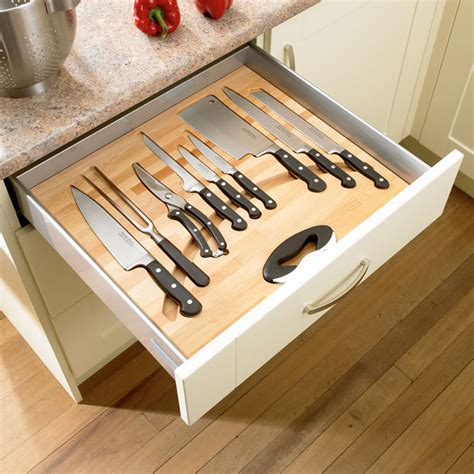knife: (69, 185, 203, 316), (177, 94, 329, 193), (220, 86, 356, 188), (254, 89, 393, 186), (140, 131, 247, 230), (131, 160, 227, 258), (186, 126, 276, 207), (177, 145, 260, 218)
